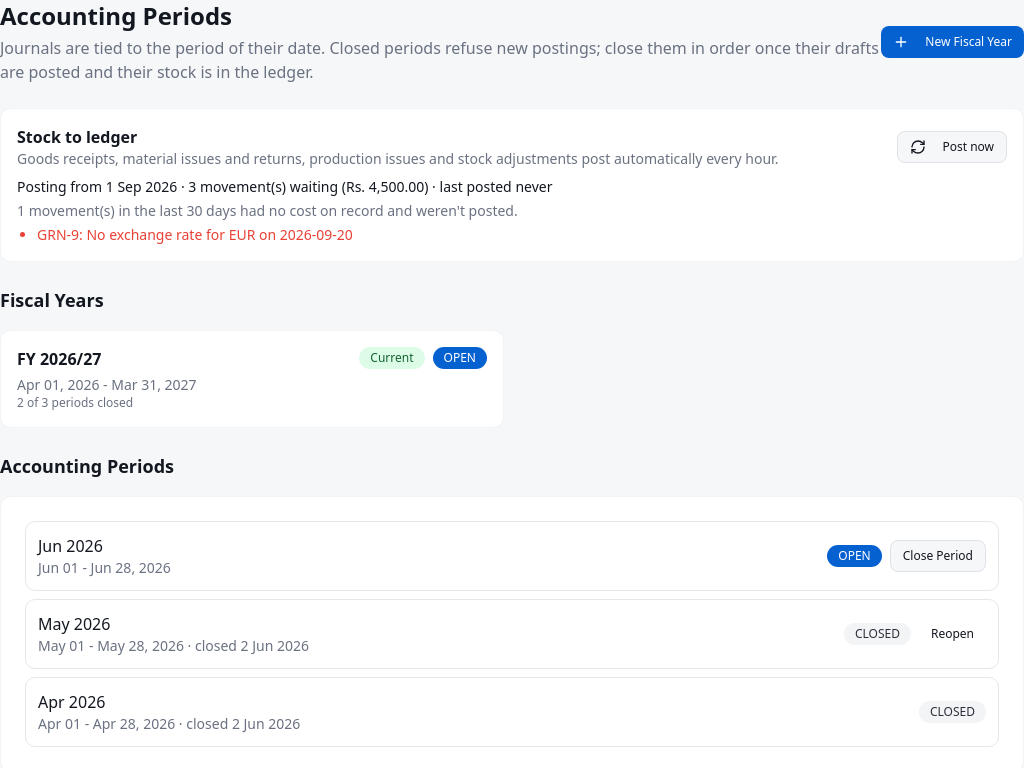
Scenario: Accounting periods › reopening needs a reason
Later steps or results of the test are not shown.
Click the button "Reopen" at (952, 634), box [919,618,986,650]
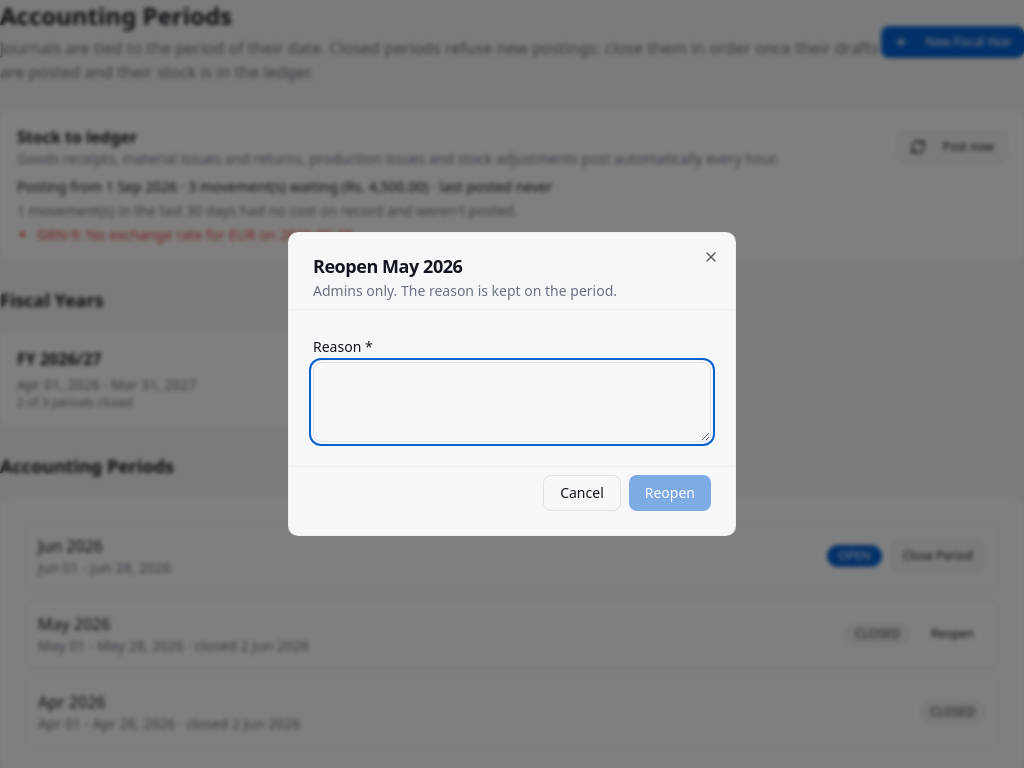
Check: the button "Reopen" is disabled, box [629,475,711,511]
